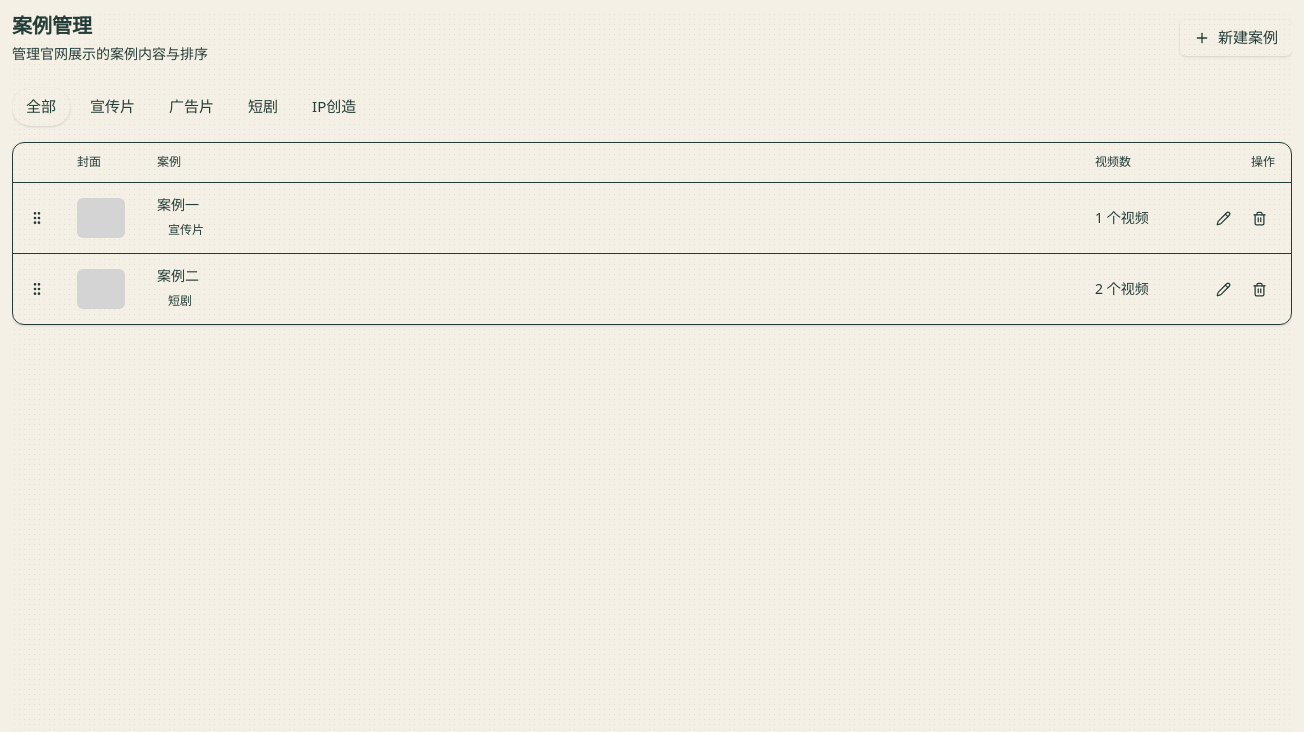
Test: shows an empty state when a category has no cases
Expected: the text "案例一" is shown, [157,195,199,214]
Click the button "IP创造" at (334, 107), box [298,88,370,126]
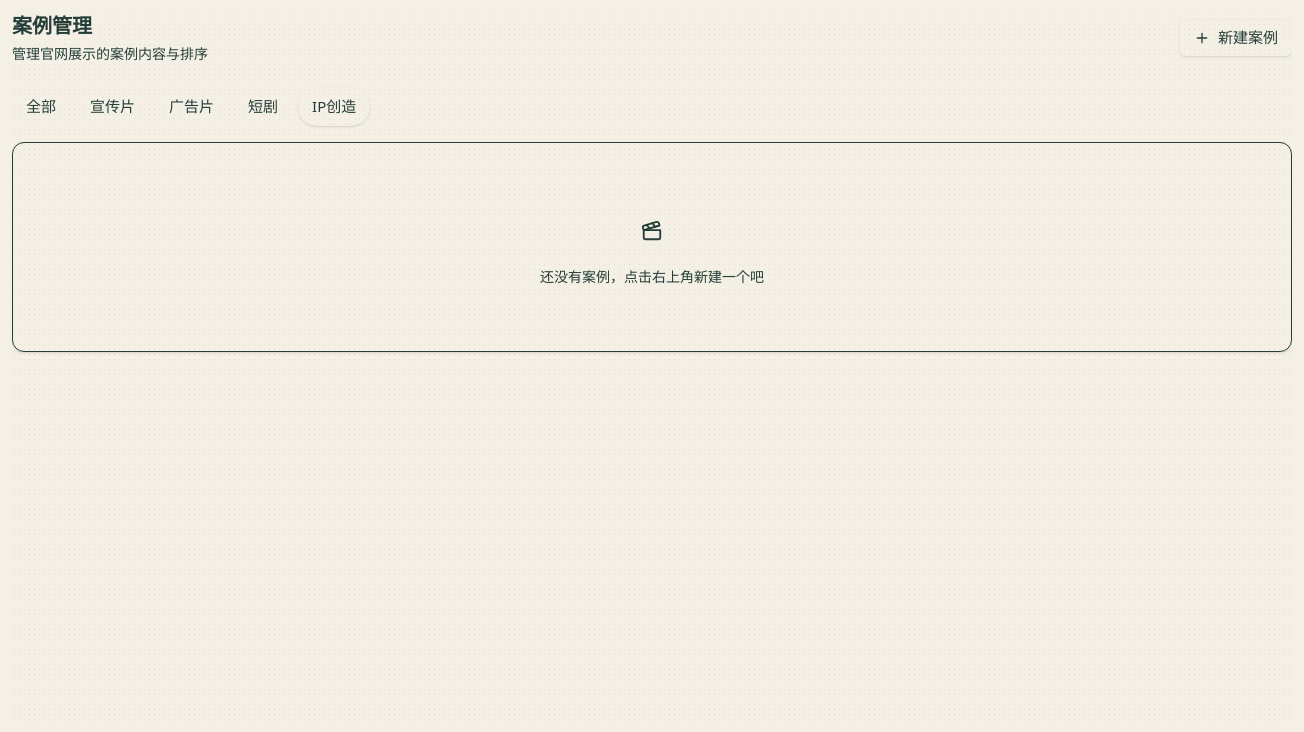
Now the text "还没有案例，点击右上角新建一个吧" is shown, box [540,266,764,286]
